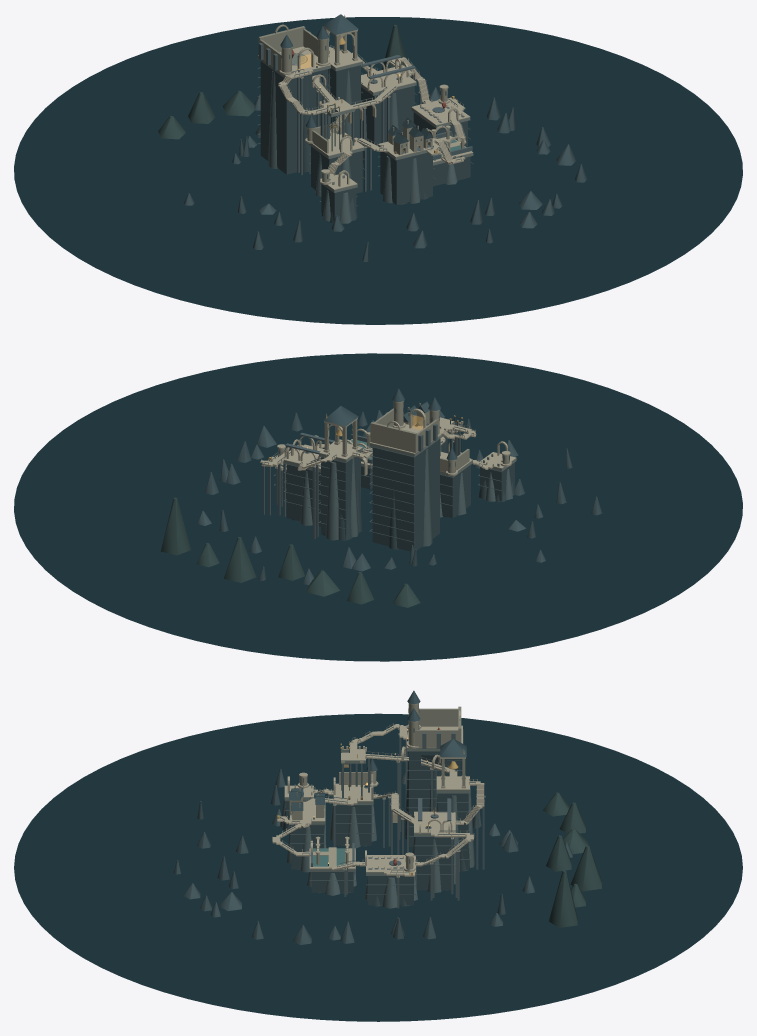
Rendered from Ashbell-Sanctuary.glb.
3 renders of one model, top to bottom at view 1: azimuth 30°, elevation 25°; view 2: azimuth 150°, elevation 25°; view 3: azimuth 270°, elevation 25°, orthographic.
Visible parts, largest first — view 1: Ashbell Sanctuary - Original Level Blockout CircleGeometry @, Unified citadel foundation with through tunnel, Terraced foundations with real tunnel BoxGeometry @ -4,-4,34, Terraced foundations with real tunnel BoxGeometry @ 19,-1.5,, Ashbell Sanctuary - Original Level Blockout CylinderGeometry (×2), Terraced foundations with real tunnel BoxGeometry @ 0,4.5,-3, Terraced foundations with real tunnel BoxGeometry @ -30,-5,1, Terraced foundations with real tunnel BoxGeometry @ 38,1.88,, Terraced foundations with real tunnel CylinderGeometry @ -40, Architecture BoxGeometry @ -31,42,-39, Terraced foundations with real tunnel BoxGeometry @ 19,14.88, Terraced foundations with real tunnel BoxGeometry @ 22,-10,2 (+1 smaller); view 2: Ashbell Sanctuary - Original Level Blockout CircleGeometry @, Unified citadel foundation with through tunnel, Ashbell Sanctuary - Original Level Blockout CylinderGeometry (×5), Terraced foundations with real tunnel BoxGeometry @ 0,4.5,-3, Terraced foundations with real tunnel BoxGeometry @ 19,-1.5,, Terraced foundations with real tunnel BoxGeometry @ -30,-5,1, Architecture BoxGeometry @ -31,42,-39, Terraced foundations with real tunnel CylinderGeometry @ -1., Terraced foundations with real tunnel BoxGeometry @ -44,-8,3, Terraced foundations with real tunnel CylinderGeometry @ -40; view 3: Ashbell Sanctuary - Original Level Blockout CircleGeometry @, Ashbell Sanctuary - Original Level Blockout CylinderGeometry (×3), Unified citadel foundation with through tunnel, Terraced foundations with real tunnel BoxGeometry @ 19,-1.5,, Terraced foundations with real tunnel BoxGeometry @ -30,-5,1, Terraced foundations with real tunnel BoxGeometry @ 38,-8,-6, Terraced foundations with real tunnel BoxGeometry @ 0,4.5,-3, Architecture BoxGeometry @ -43,41.5,-28, Terraced foundations with real tunnel BoxGeometry @ -4,-4,34, Terraced foundations with real tunnel BoxGeometry @ 19,14.88, Terraced foundations with real tunnel BoxGeometry @ 22,-10,2, Terraced foundations with real tunnel BoxGeometry @ 38,1.88, (+1 smaller).
Part boxes in pixels (x1,y1,x2,y2): Ashbell Sanctuary - Original Level Blockout CircleGeometry @: (14, 17, 742, 324); Unified citadel foundation with through tunnel: (260, 61, 330, 174); Terraced foundations with real tunnel BoxGeometry @ -4,-4,34: (380, 152, 432, 204); Terraced foundations with real tunnel BoxGeometry @ 19,-1.5,: (361, 86, 413, 145); Ashbell Sanctuary - Original Level Blockout CylinderGeometry (×2): (188, 90, 254, 123); Terraced foundations with real tunnel BoxGeometry @ 0,4.5,-3: (321, 65, 360, 134); Terraced foundations with real tunnel BoxGeometry @ -30,-5,1: (311, 146, 362, 193); Terraced foundations with real tunnel BoxGeometry @ 38,1.88,: (411, 100, 469, 125); Terraced foundations with real tunnel CylinderGeometry @ -40: (268, 71, 277, 168); Architecture BoxGeometry @ -31,42,-39: (258, 26, 305, 52); Terraced foundations with real tunnel BoxGeometry @ 19,14.88: (361, 67, 416, 92); Terraced foundations with real tunnel BoxGeometry @ 22,-10,2: (433, 156, 470, 186); Ashbell Sanctuary - Original Level Blockout CircleGeometry @: (14, 353, 742, 661); Unified citadel foundation with through tunnel: (369, 439, 439, 551); Ashbell Sanctuary - Original Level Blockout CylinderGeometry (×5): (160, 497, 373, 604); Terraced foundations with real tunnel BoxGeometry @ 0,4.5,-3: (321, 452, 360, 539); Terraced foundations with real tunnel BoxGeometry @ 19,-1.5,: (286, 464, 320, 526); Terraced foundations with real tunnel BoxGeometry @ -30,-5,1: (440, 465, 470, 518); Architecture BoxGeometry @ -31,42,-39: (370, 422, 416, 452); Terraced foundations with real tunnel CylinderGeometry @ -1.: (326, 461, 338, 540); Terraced foundations with real tunnel BoxGeometry @ -44,-8,3: (480, 462, 514, 501); Terraced foundations with real tunnel CylinderGeometry @ -40: (422, 449, 432, 546); Ashbell Sanctuary - Original Level Blockout CircleGeometry @: (14, 713, 742, 1021); Ashbell Sanctuary - Original Level Blockout CylinderGeometry (×3): (546, 835, 601, 927); Unified citadel foundation with through tunnel: (404, 751, 461, 846); Terraced foundations with real tunnel BoxGeometry @ 19,-1.5,: (415, 837, 453, 890); Terraced foundations with real tunnel BoxGeometry @ -30,-5,1: (335, 805, 371, 845); Terraced foundations with real tunnel BoxGeometry @ 38,-8,-6: (368, 876, 413, 905); Terraced foundations with real tunnel BoxGeometry @ 0,4.5,-3: (438, 793, 468, 869); Architecture BoxGeometry @ -43,41.5,-28: (419, 708, 458, 726); Terraced foundations with real tunnel BoxGeometry @ -4,-4,34: (291, 825, 323, 869); Terraced foundations with real tunnel BoxGeometry @ 19,14.88: (414, 811, 455, 833); Terraced foundations with real tunnel BoxGeometry @ 22,-10,2: (311, 872, 353, 892); Terraced foundations with real tunnel BoxGeometry @ 38,1.88,: (366, 855, 415, 872).
Size of the model in its own units: 350 by 82.66 by 350.
